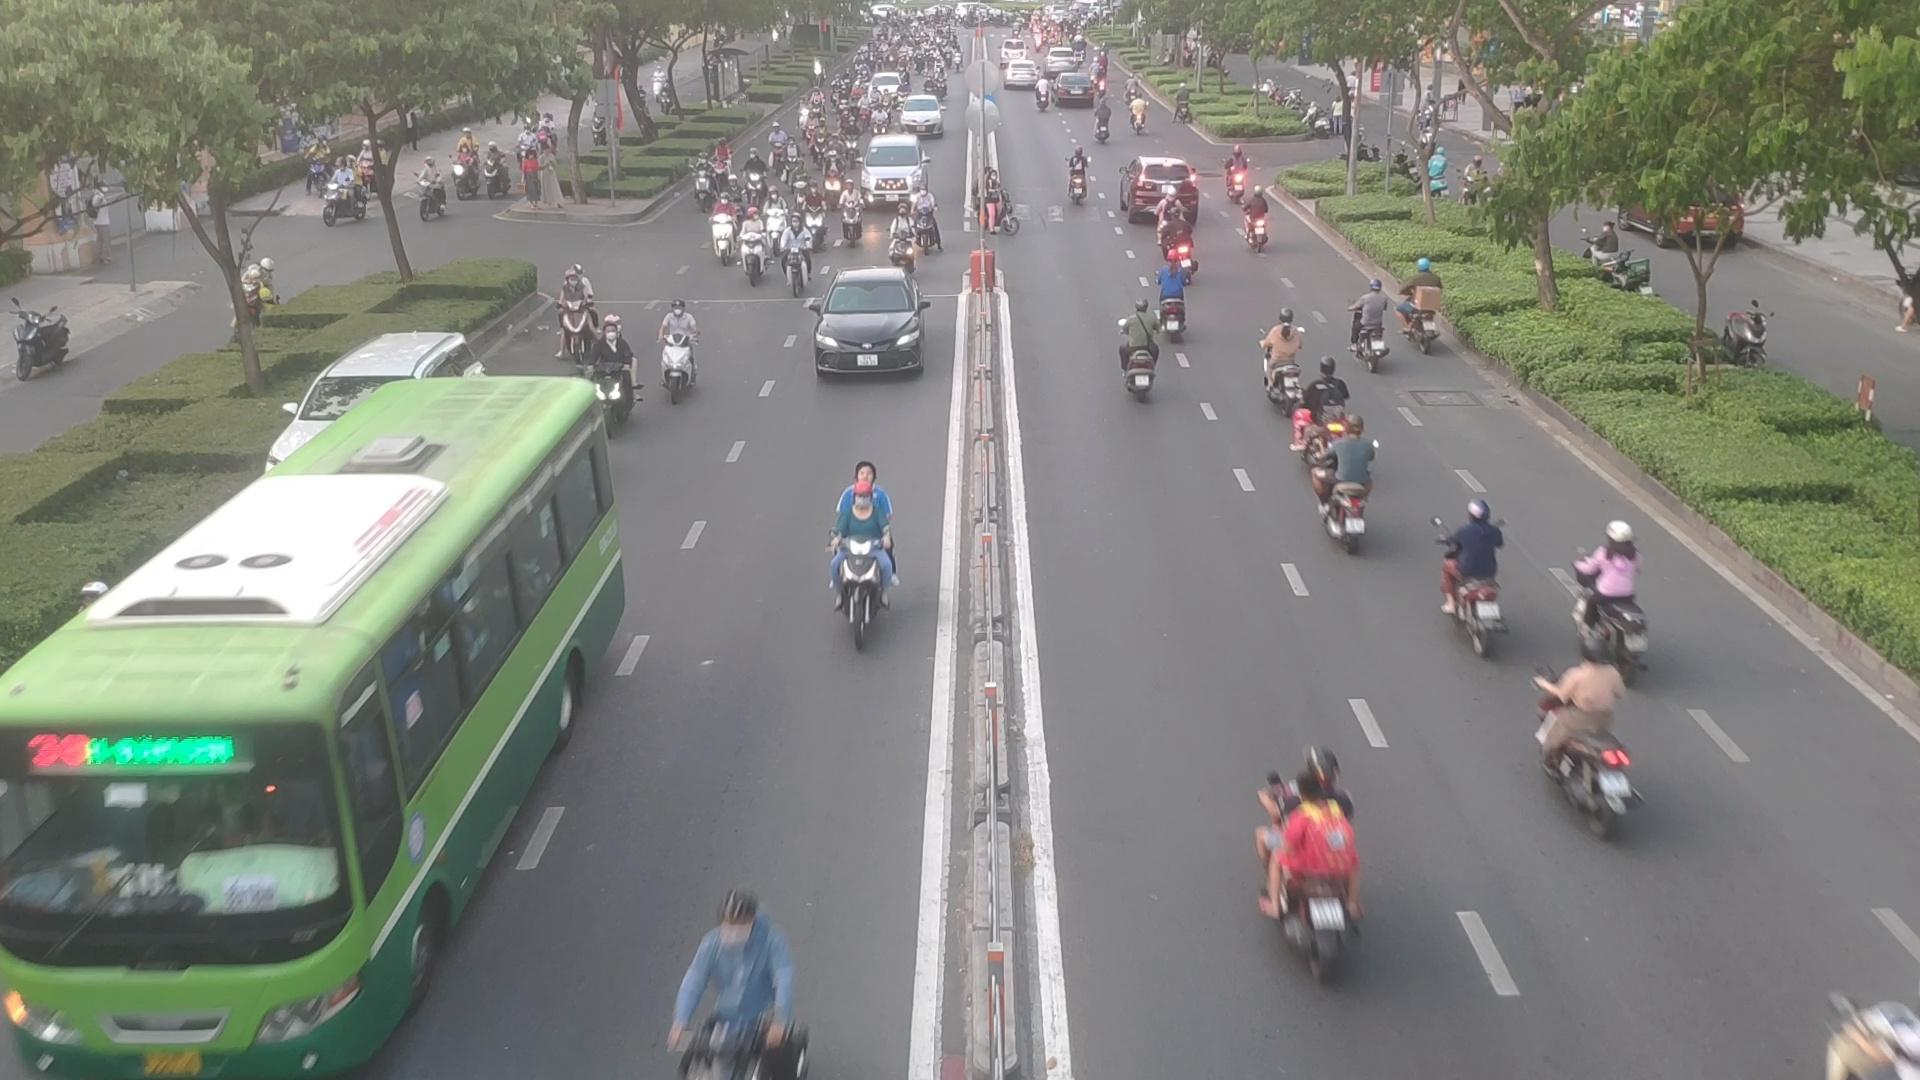bus: (3, 386, 618, 1075)
car: (804, 270, 927, 377), (1126, 170, 1192, 224)
motorbike: (1246, 762, 1377, 980), (649, 903, 796, 1080), (1538, 669, 1658, 837), (820, 460, 899, 644), (1578, 521, 1654, 676), (1436, 502, 1515, 647), (1300, 409, 1377, 549), (1820, 986, 1920, 1080), (1110, 305, 1167, 404), (651, 305, 705, 404), (1261, 315, 1311, 413), (1349, 287, 1395, 372), (727, 218, 778, 285), (1139, 272, 1187, 338), (1240, 189, 1276, 252), (1059, 149, 1097, 208)
